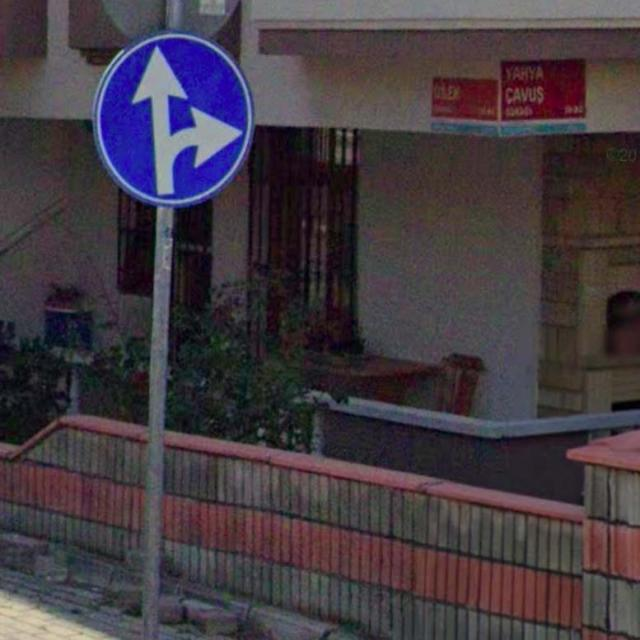ilerisag: (92, 32, 254, 206)
